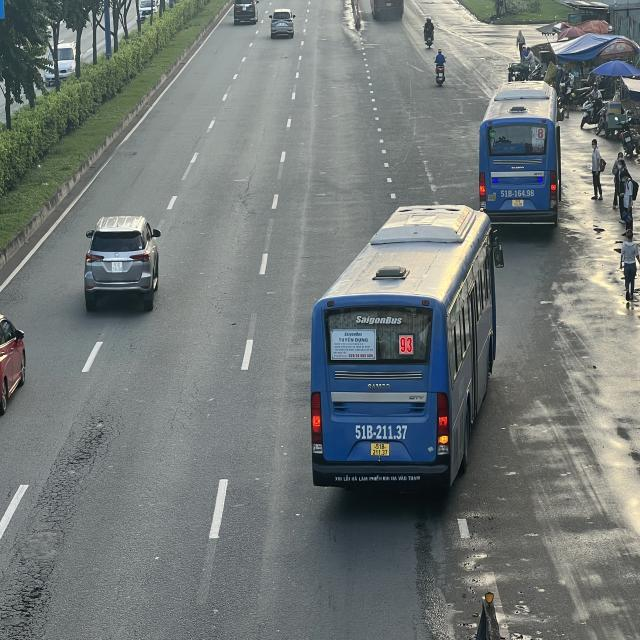car: (85, 214, 164, 309), (270, 9, 296, 39)
coach: (314, 209, 502, 496), (482, 81, 563, 228)
